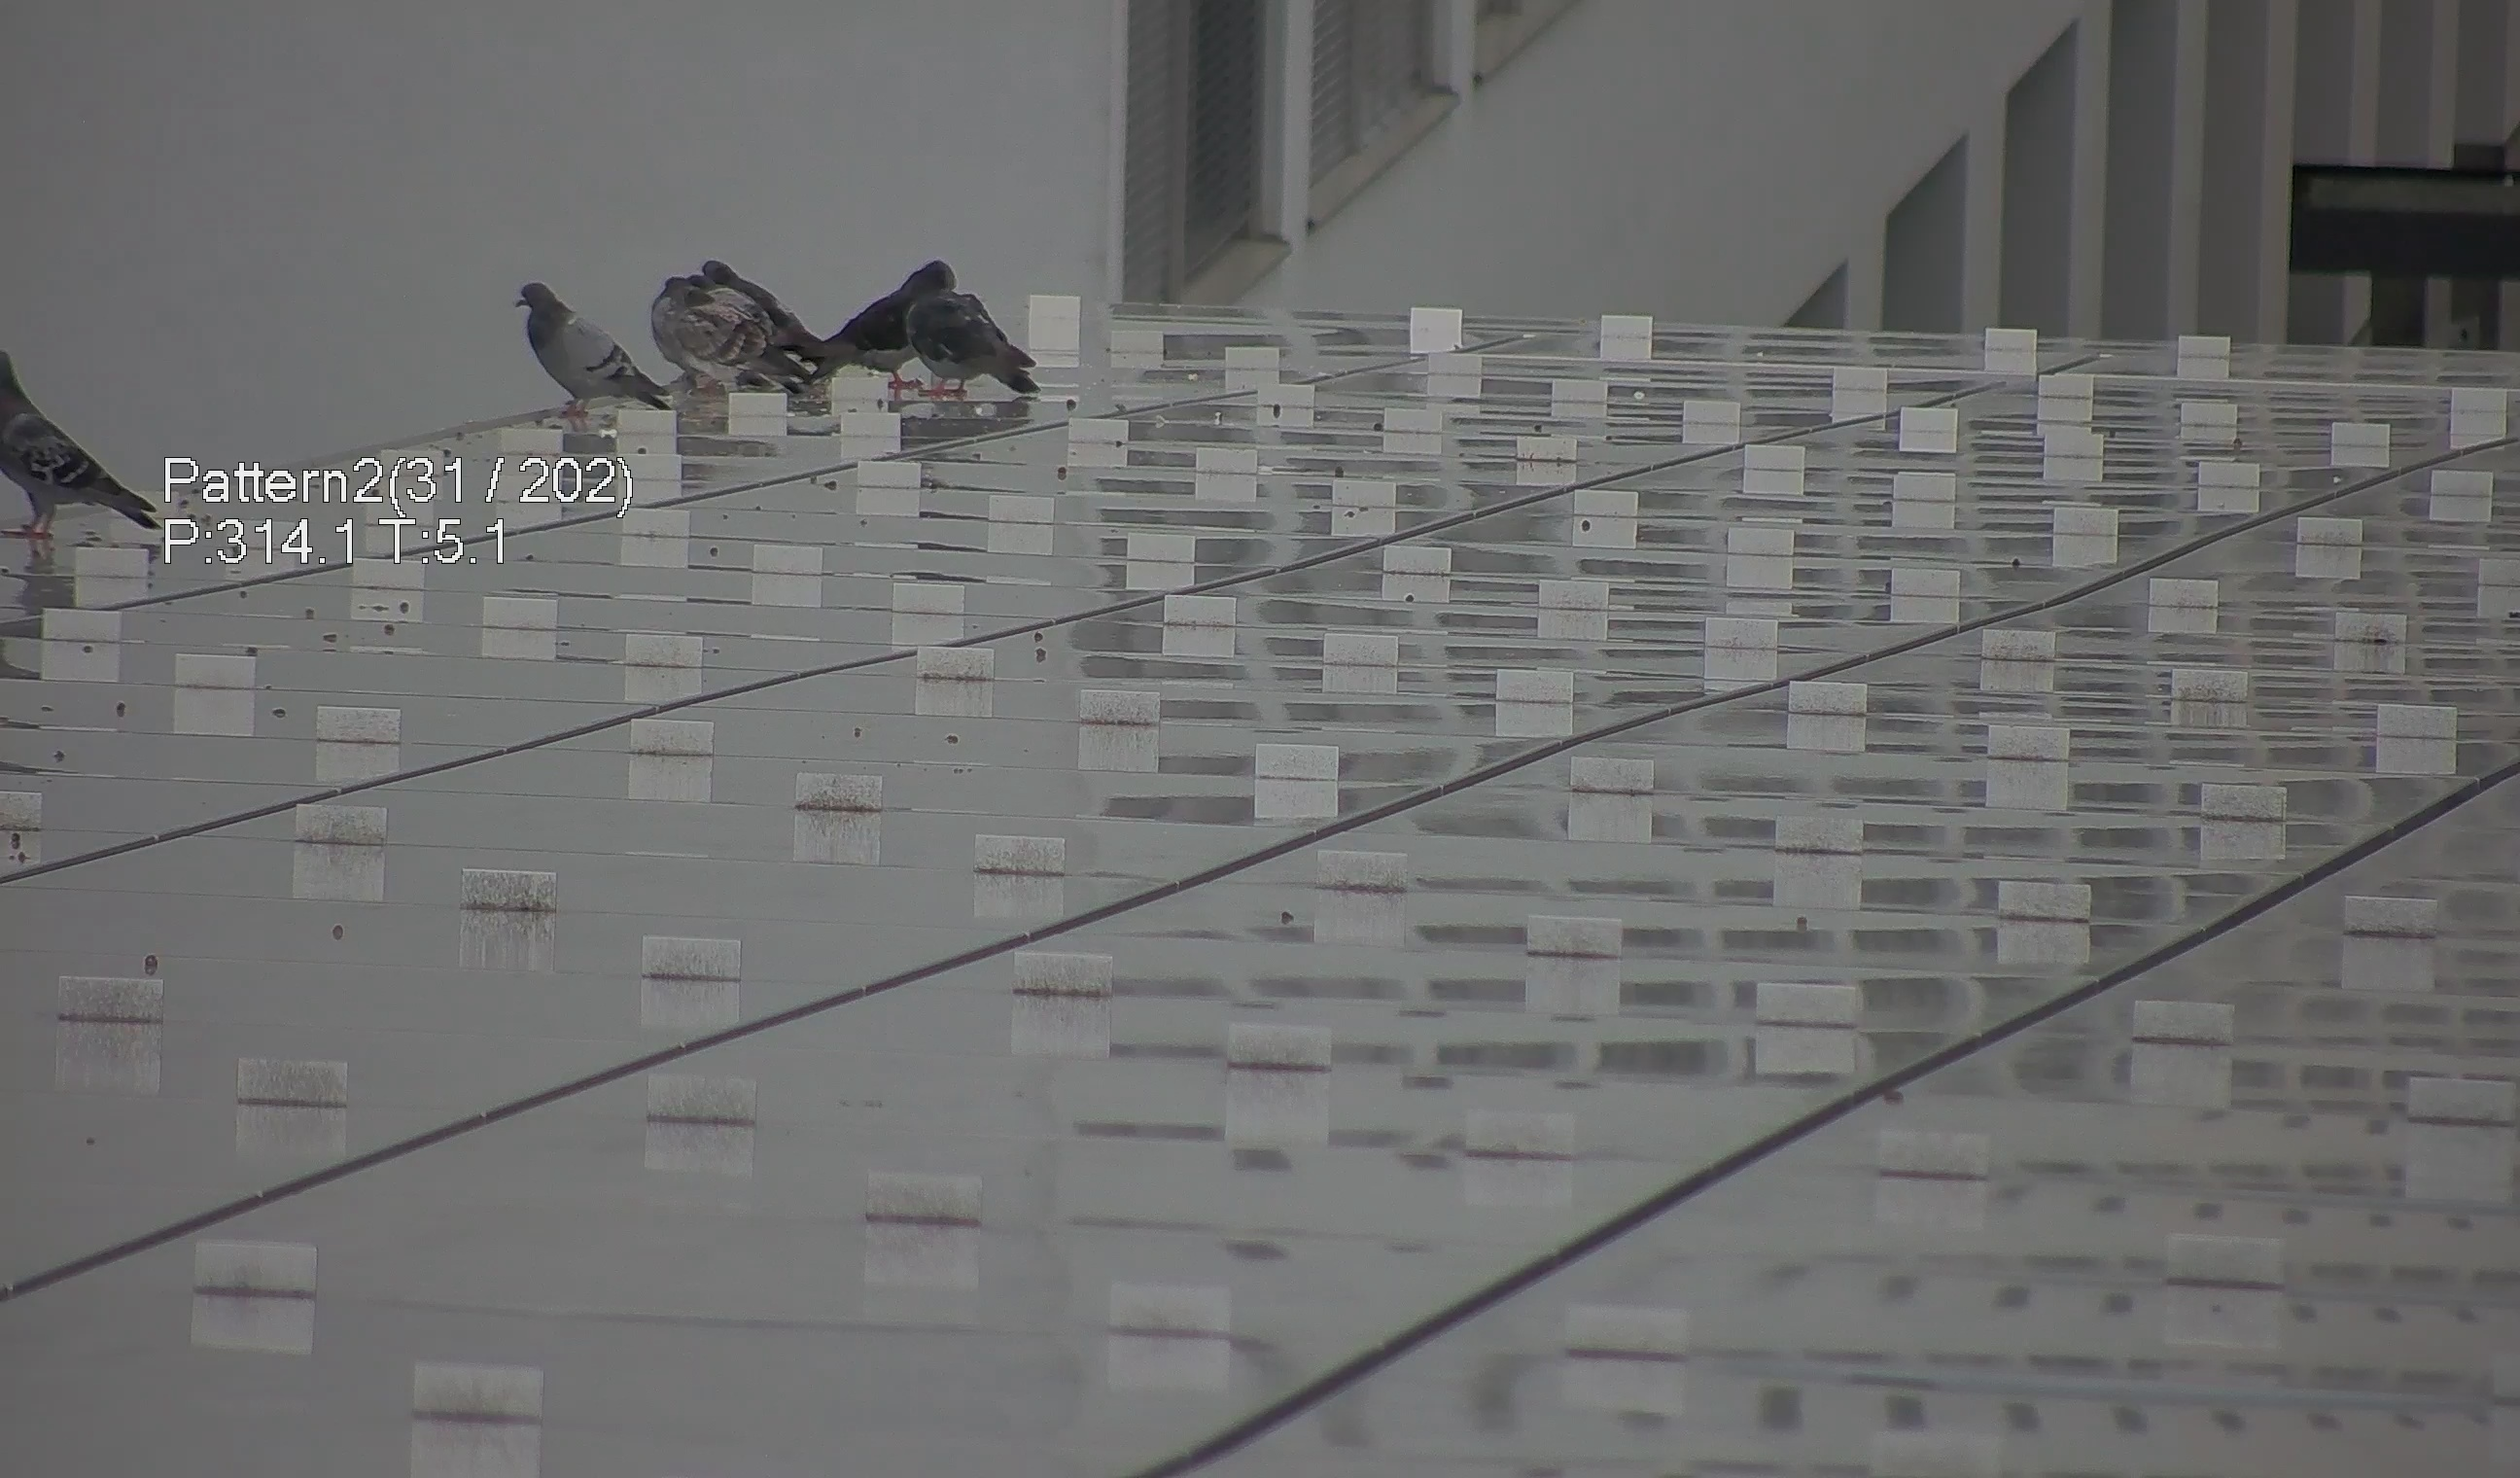Pigeon: (2, 327, 158, 561), (633, 252, 860, 412), (878, 262, 1069, 403), (814, 246, 980, 406), (491, 269, 668, 417)
